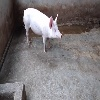heo: (22, 6, 64, 53)
